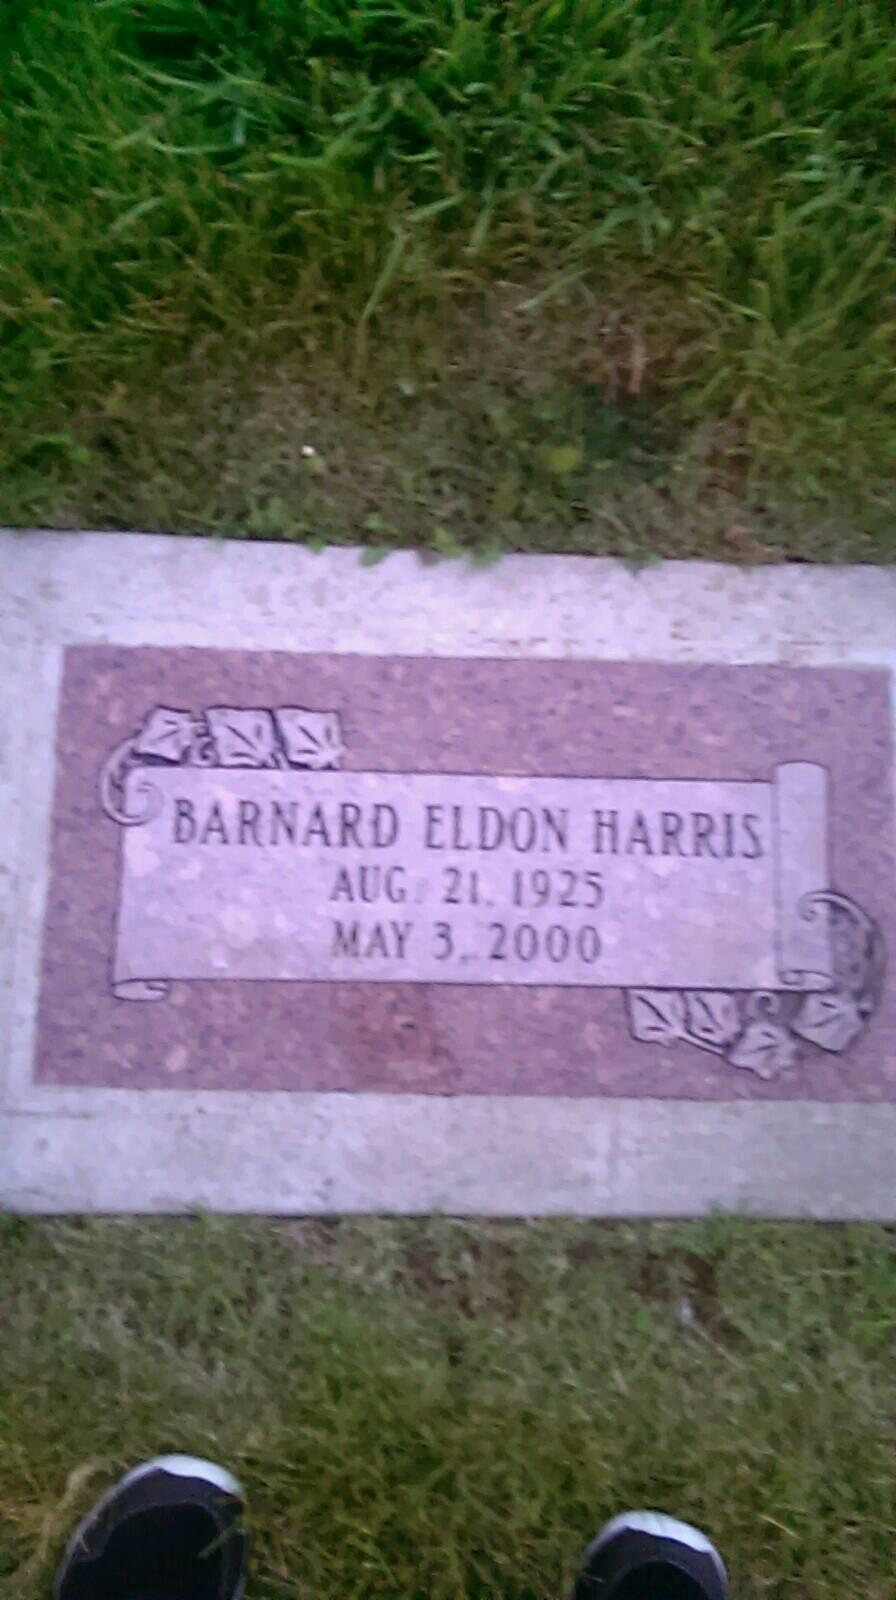flat: (7, 527, 896, 1238)
